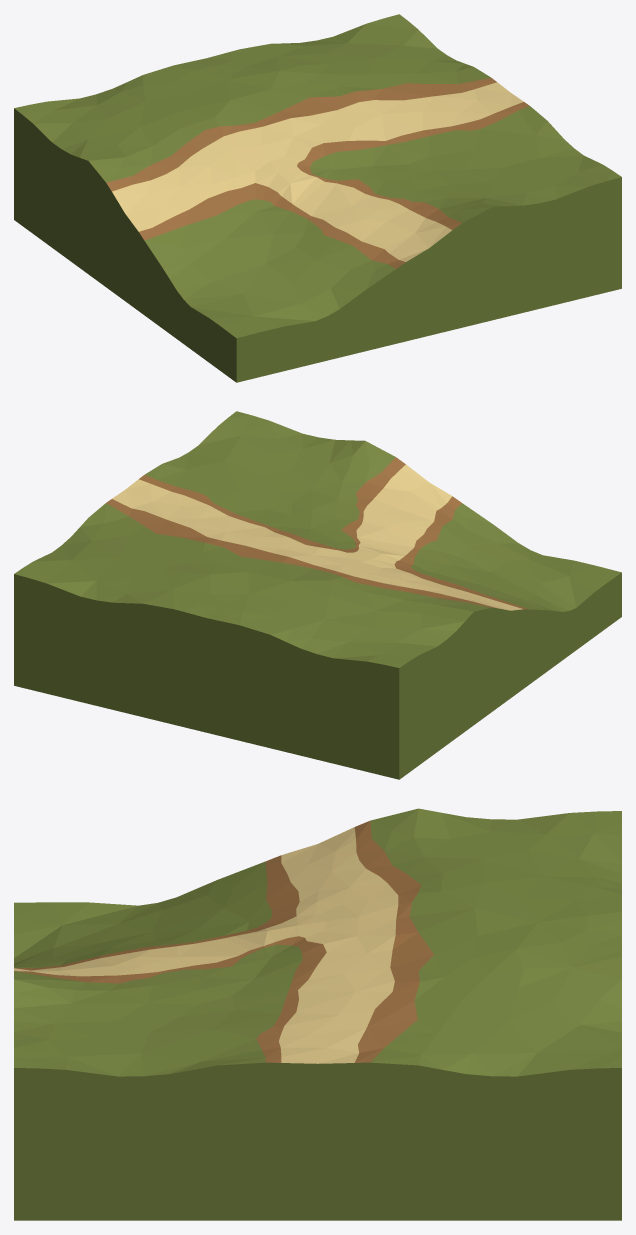
The model's file is Terrian_Road_Int_HillDip-04.fbx.
3 renders of one model, top to bottom at view 1: azimuth 30°, elevation 25°; view 2: azimuth 150°, elevation 25°; view 3: azimuth 270°, elevation 25°, orthographic. The views are drawn at different scales.
Visible parts, largest first — view 1: Terrian_Road_Int_HillDip-04; view 2: Terrian_Road_Int_HillDip-04; view 3: Terrian_Road_Int_HillDip-04.
Part boxes in pixels (<box>): Terrian_Road_Int_HillDip-04: <box>14,14,621,382</box>; Terrian_Road_Int_HillDip-04: <box>14,411,621,779</box>; Terrian_Road_Int_HillDip-04: <box>14,808,621,1220</box>.
Size of the model in its own units: 3600 by 1086 by 3600.
1 material, 1 textured.
